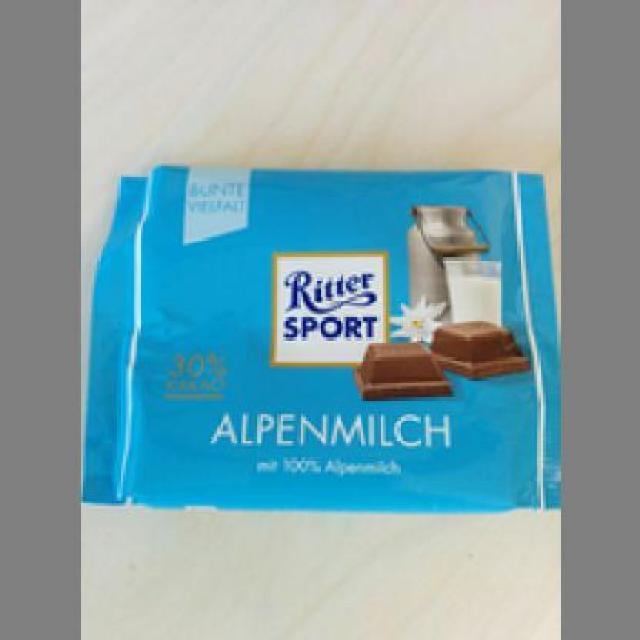Chocolate: (79, 162, 555, 508)
